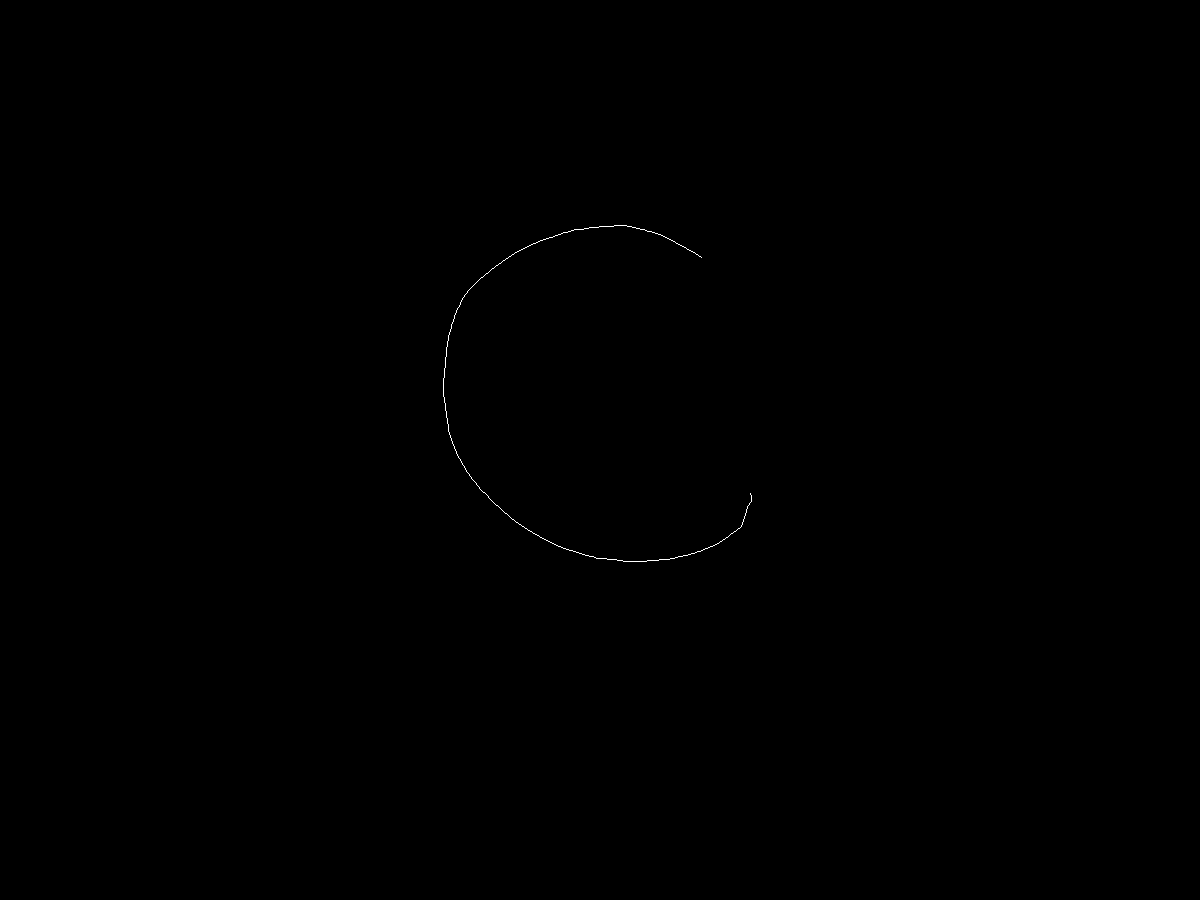dian1: (697, 248, 712, 266)
dian2: (741, 482, 758, 503)
